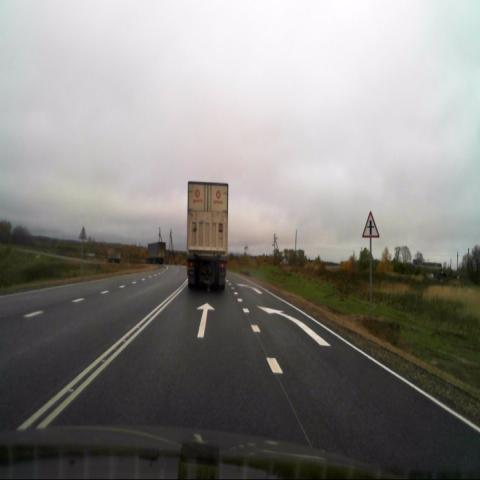2_3: (361, 210, 379, 239)
